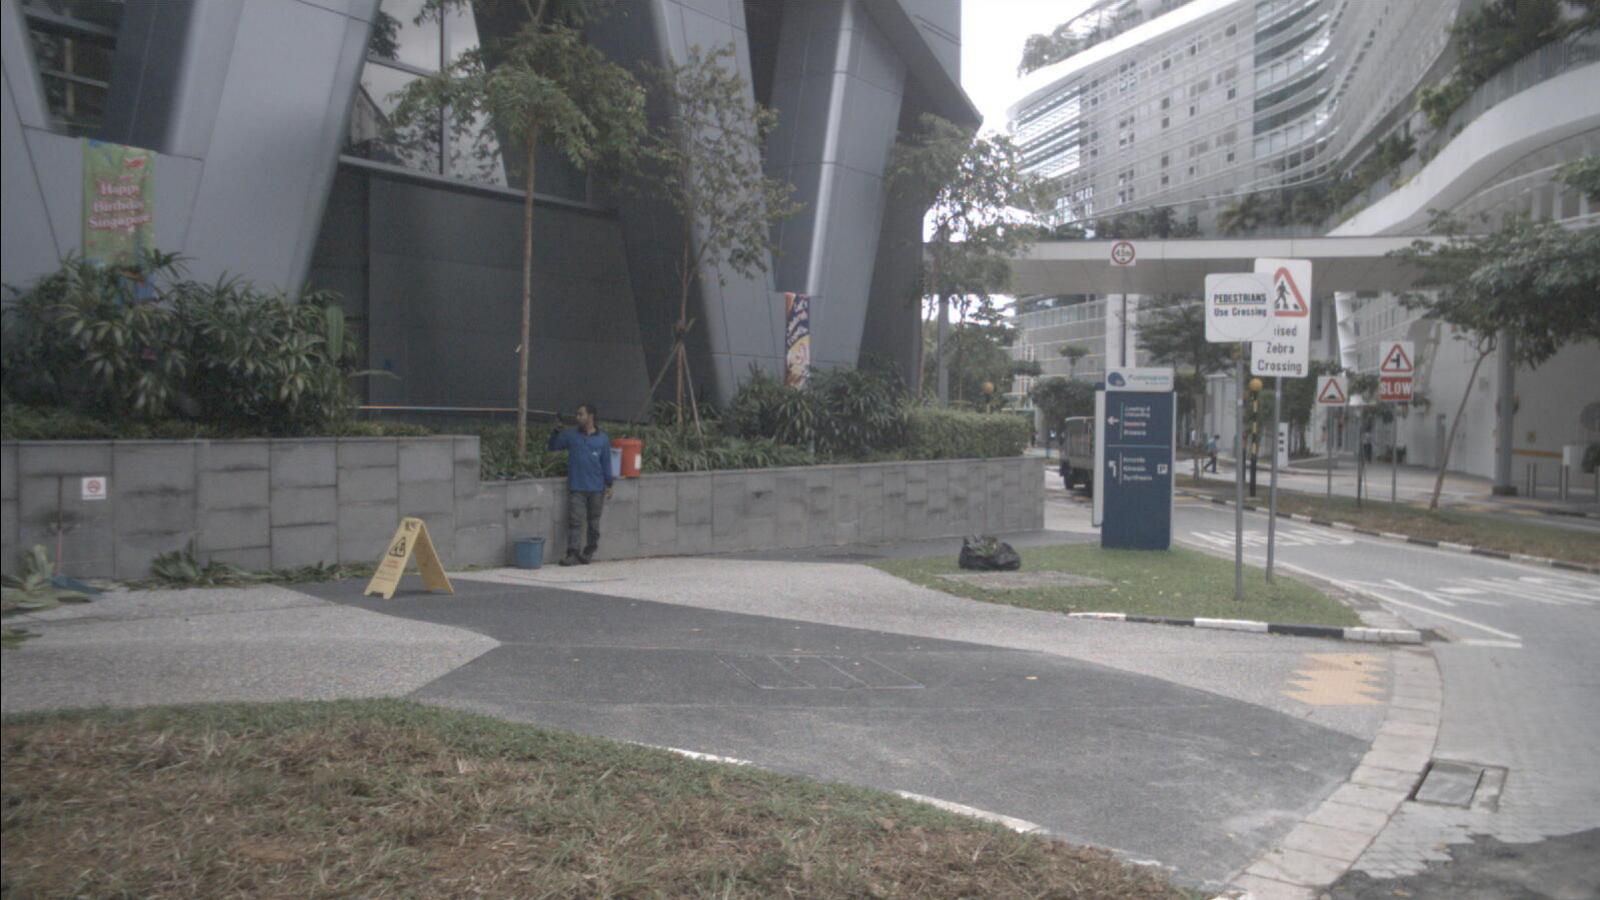human.pedestrian.adult-pedestrian.moving: (1201, 435, 1220, 475), (1190, 427, 1200, 459)
human.pedestrian.adult-pedestrian.standing: (548, 404, 614, 567), (1361, 428, 1371, 467)
